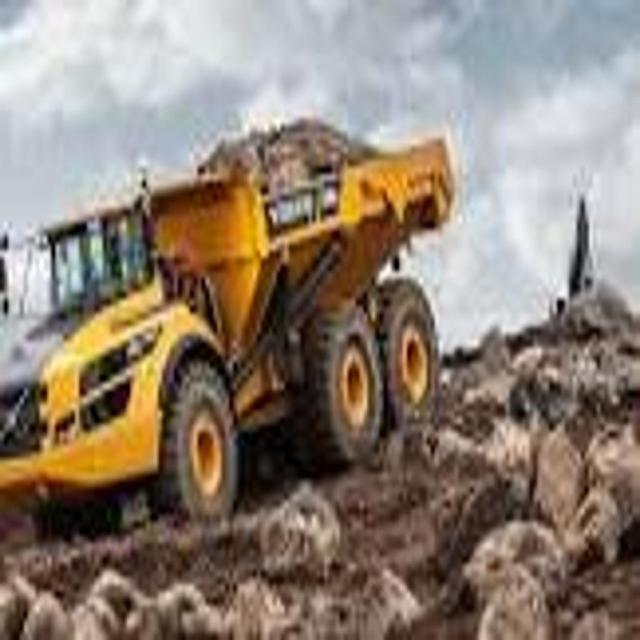dump_truck: (4, 112, 461, 520)
